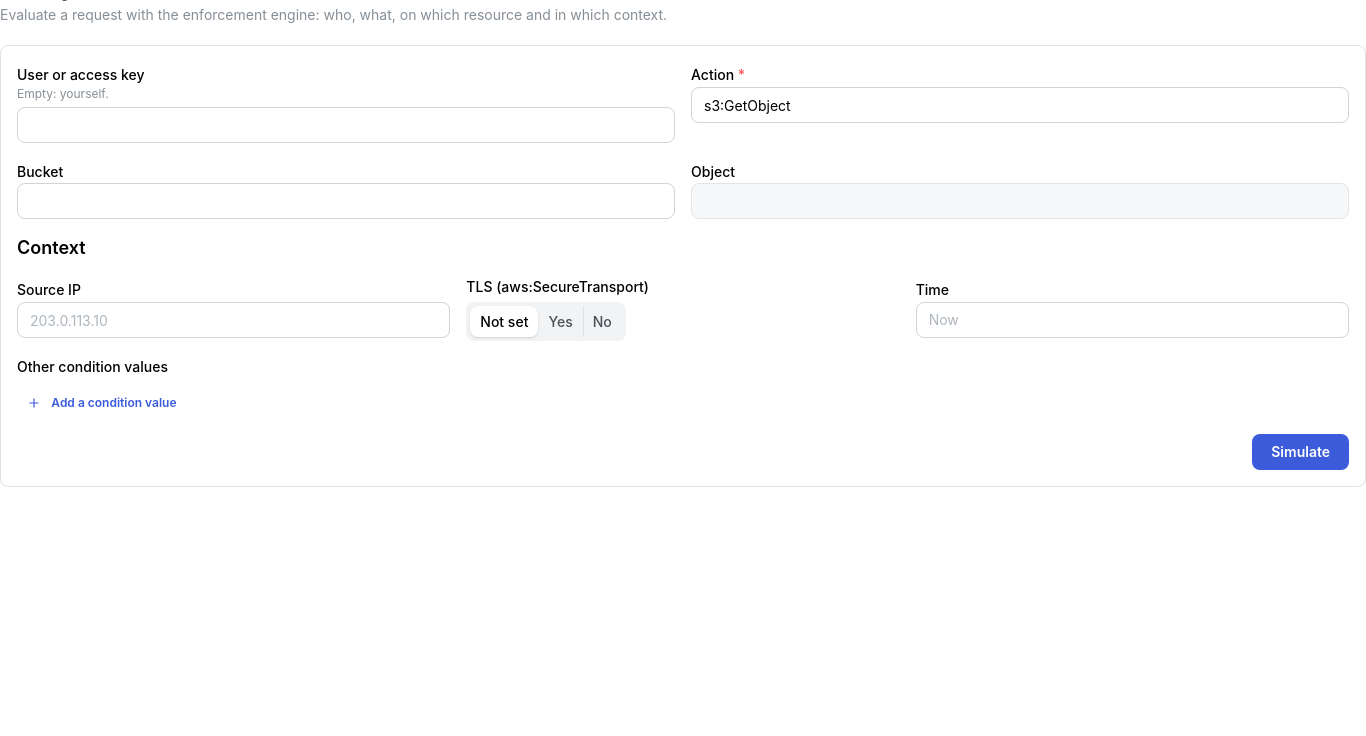
Policy simulator (D-POL-03) › shows the decision, the deciding statement and every evaluation
Type "alice" into the field labelled "User or access key" at [346, 125], box [17, 107, 675, 143]
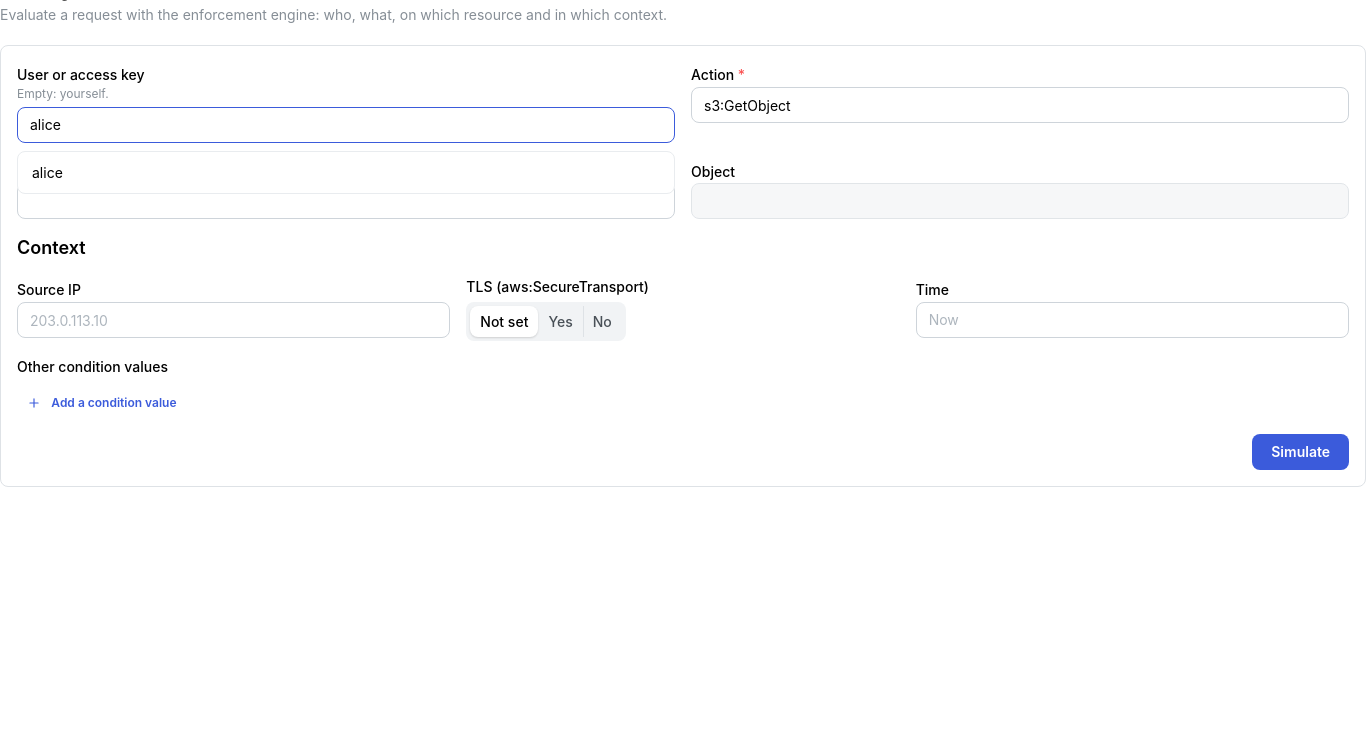
Type "media" into the field labelled "Bucket" at [346, 201], box [17, 183, 675, 219]
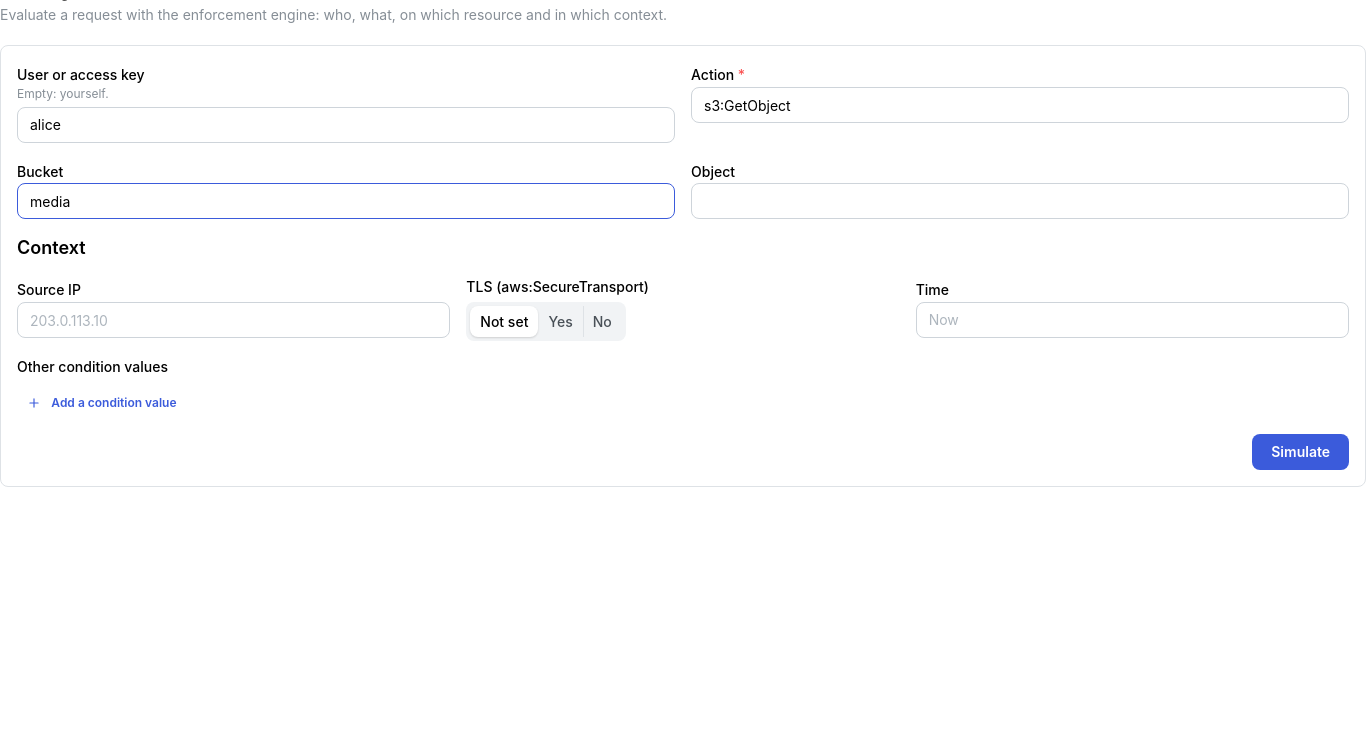
Type "a.txt" into the field labelled "Object" at [1020, 201], box [691, 183, 1349, 219]
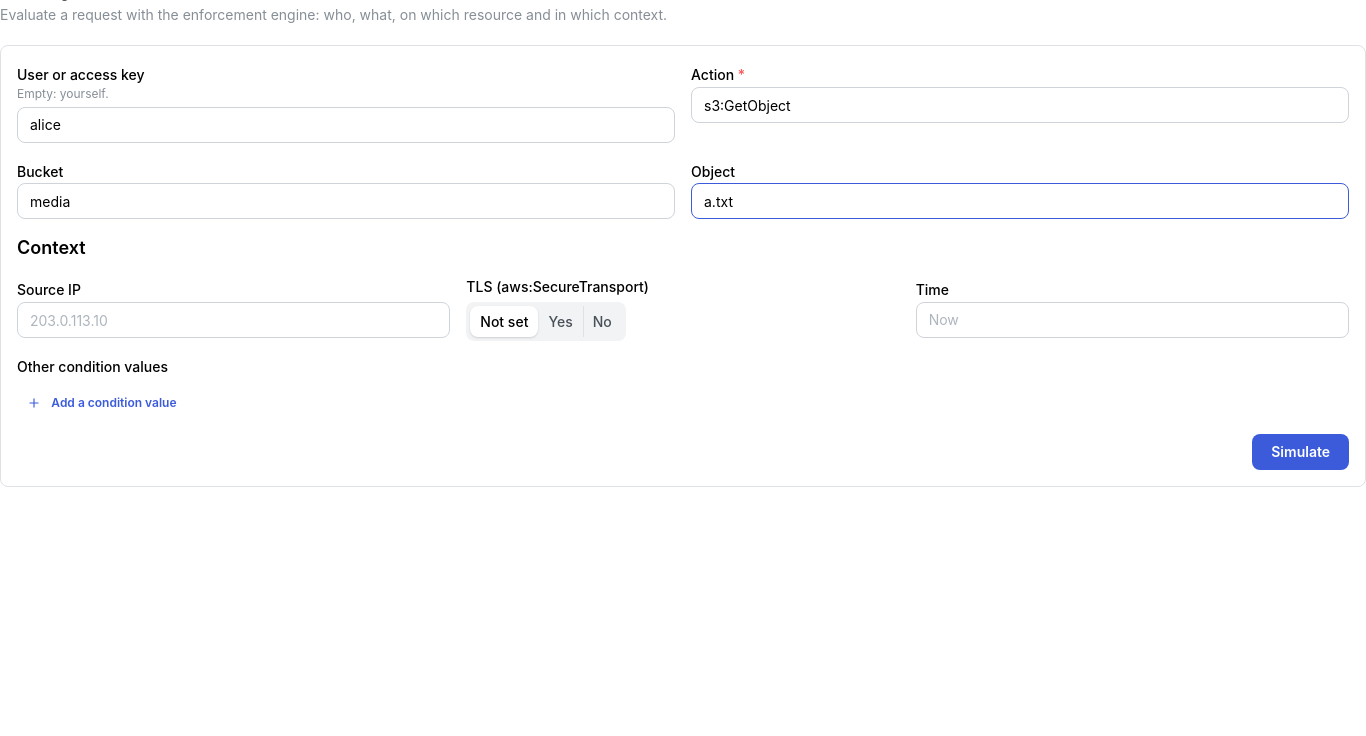
Type "10.0.0.1" into the field labelled "Source IP" at [234, 320], box [17, 302, 450, 338]
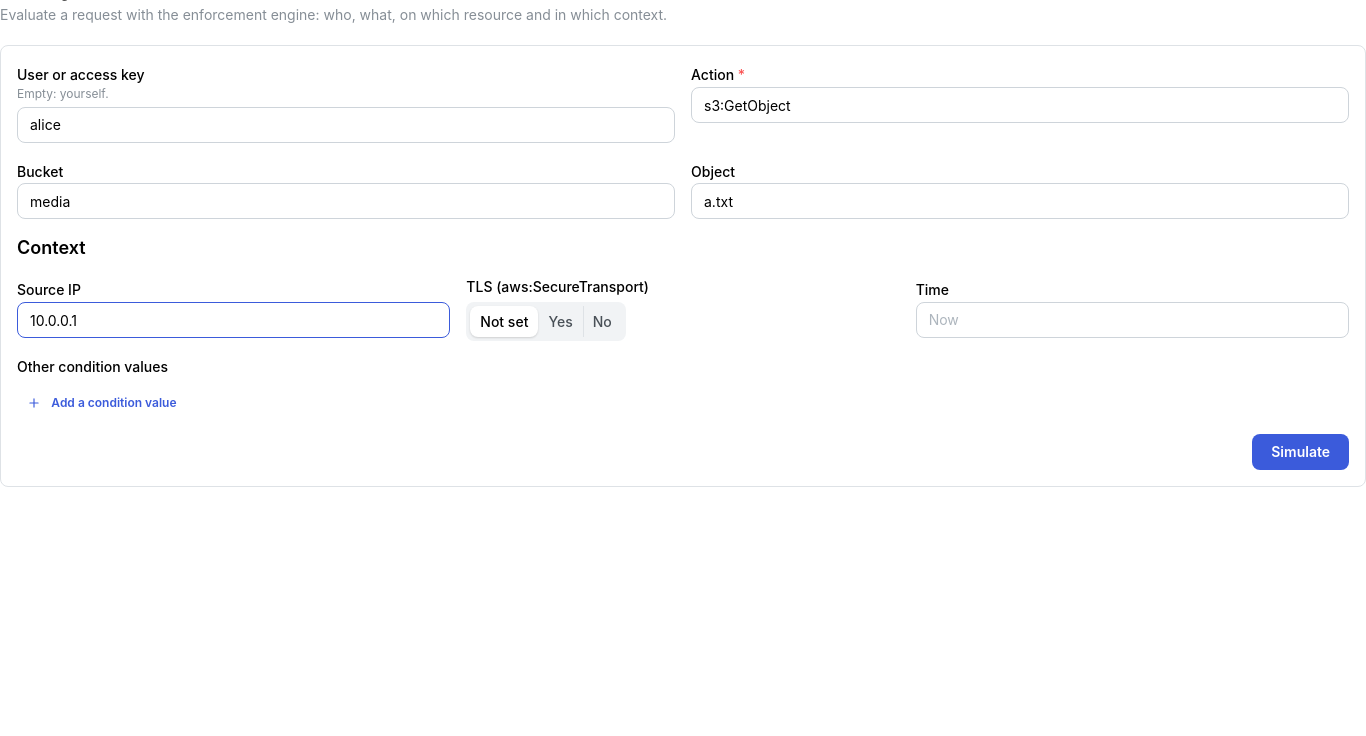
Click the radio button labelled "Yes" at [561, 321], box [548, 313, 573, 330]
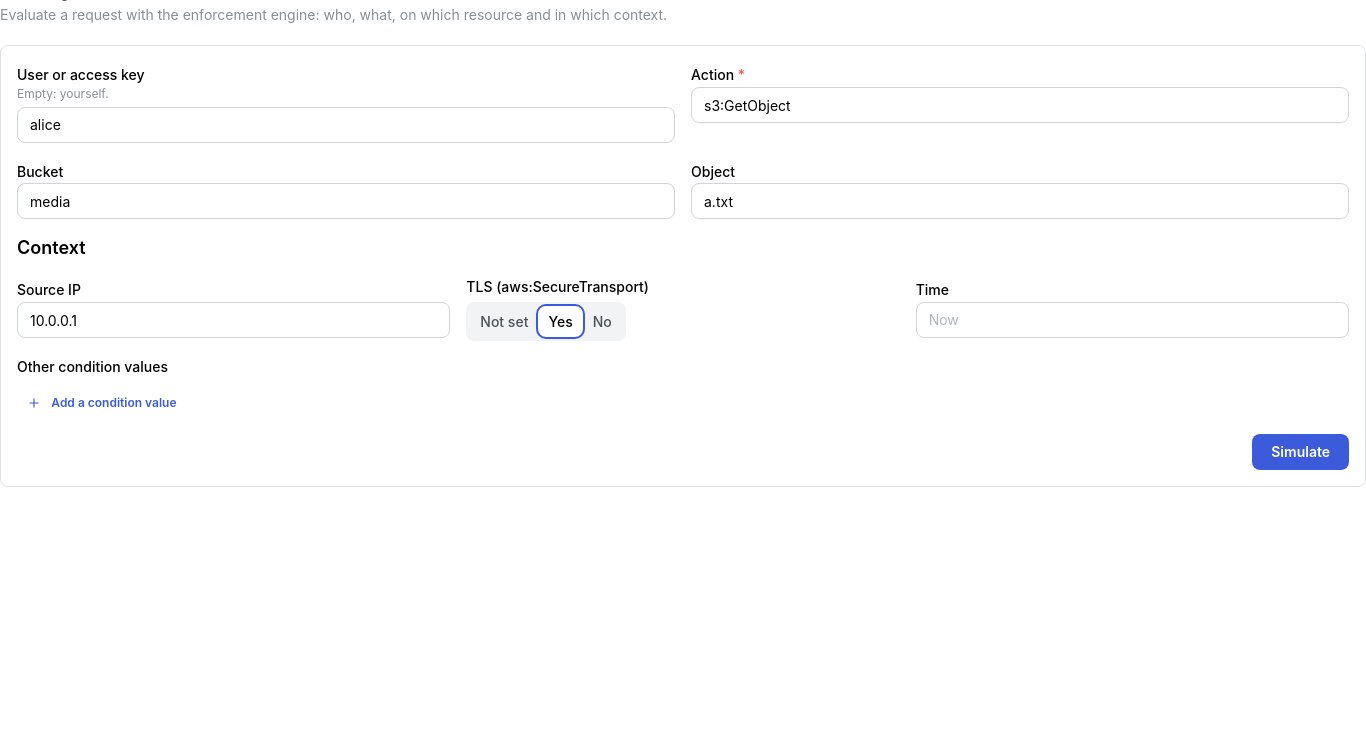
Click the button "Simulate" at [1301, 452], box [1252, 434, 1349, 470]
(page scrolled)
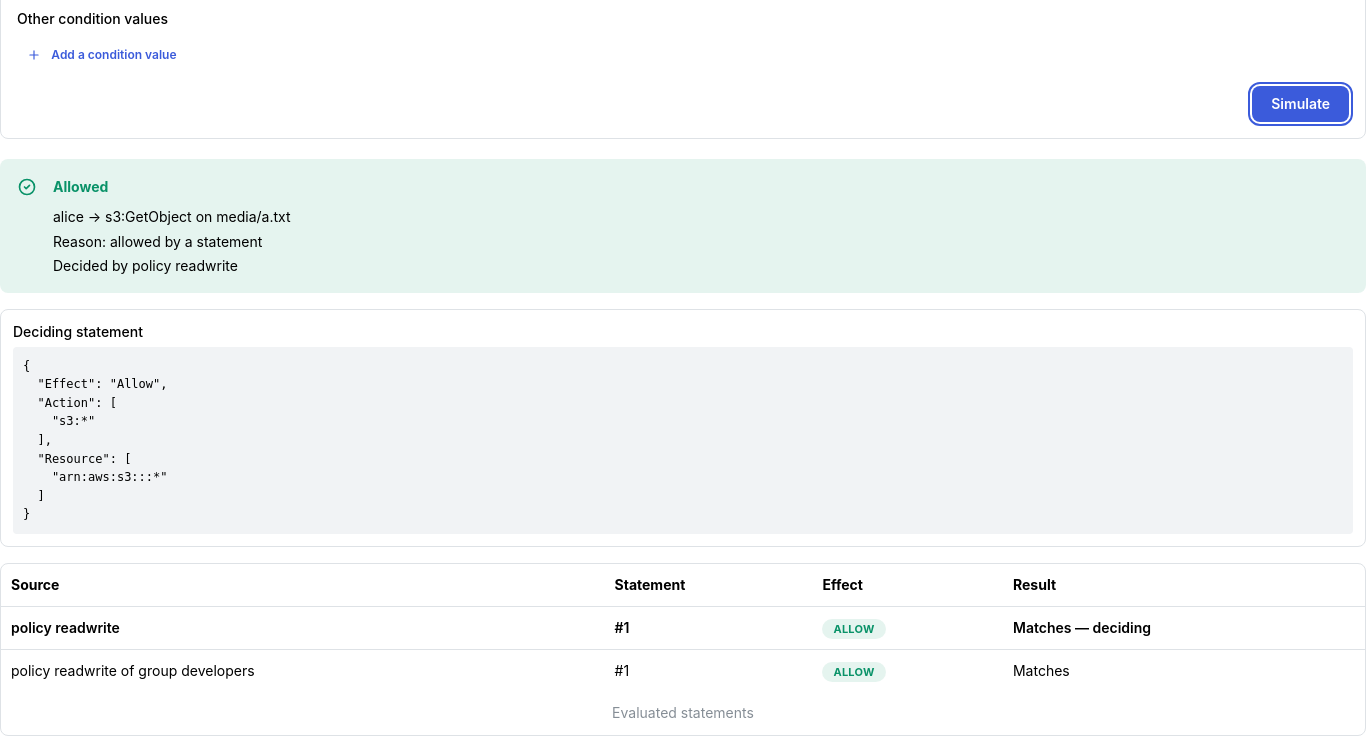
Expected: the message shows "Allowed", [53, 178, 108, 195]
Expected: the message shows "alice → s3:GetObject on media/a.txt", [53, 208, 290, 225]
Expected: the message shows "Decided by policy readwrite", [53, 257, 238, 274]
